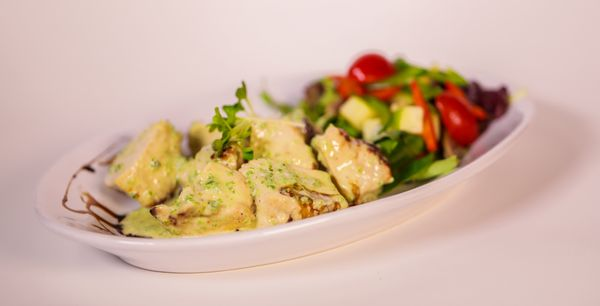sushi: (12, 44, 538, 278)
